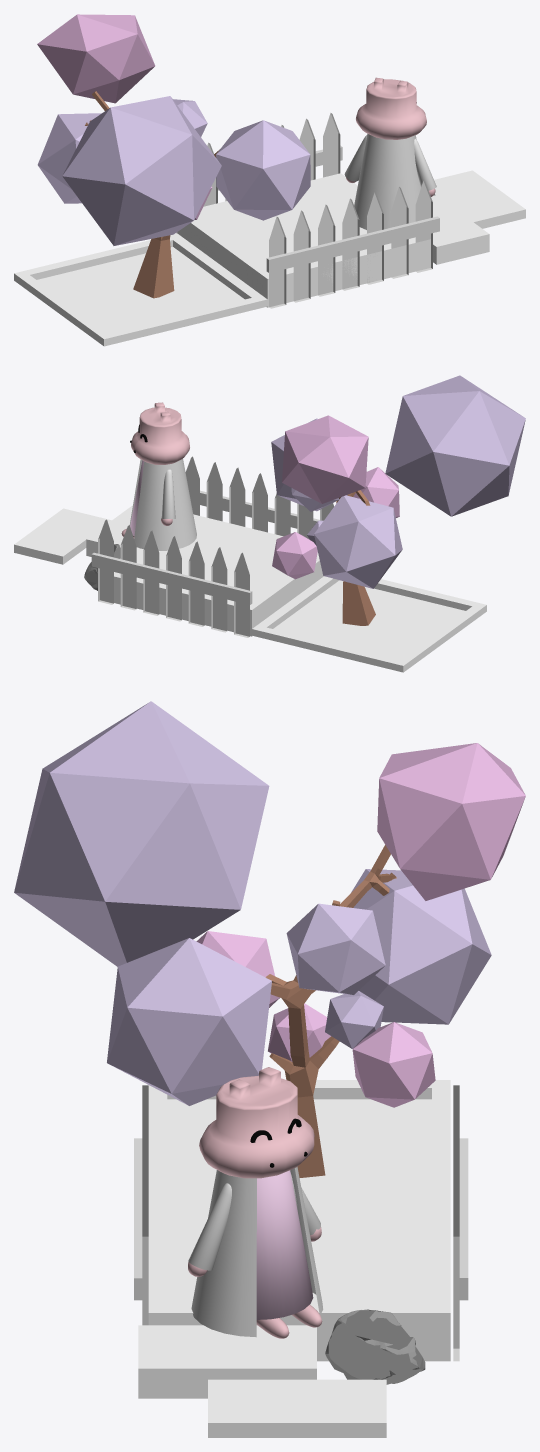
The model's file is hippo_sitting.glb.
3 views of the same model, one above another, from view 1: azimuth 30°, elevation 25°; view 2: azimuth 150°, elevation 25°; view 3: azimuth 270°, elevation 25° (orthographic). The views are drawn at different scales.
Parts seen in each view (by area): view 1: Icosphere.005, Cube.003, Cube, leaves.002, leaves, fence.001, coat, head, Cube.002, fence_lane.001, leaves.001, Cube.001 (+6 smaller); view 2: Icosphere.005, Cube.003, Cube, fence, leaves.001, leaves.002, fence.001, coat, Cube.002, head, fence_lane, Icosphere.001 (+8 smaller); view 3: Icosphere.005, Cube, leaves, leaves.002, Cube.003, leaves.001, Cube.002, Cube.001, head, coat, Icosphere.004, dress (+11 smaller).
Boxes of the visible parts, x1,y1,x2,y2 form: Icosphere.005: [62, 96, 221, 245]; Cube.003: [14, 233, 267, 346]; Cube: [177, 173, 430, 307]; leaves.002: [37, 14, 155, 103]; leaves: [216, 120, 310, 220]; fence.001: [269, 180, 432, 308]; coat: [354, 133, 420, 229]; head: [356, 77, 426, 139]; Cube.002: [433, 170, 525, 228]; fence_lane.001: [266, 216, 439, 272]; leaves.001: [37, 113, 101, 203]; Cube.001: [431, 195, 489, 264]; Icosphere.005: [385, 375, 525, 516]; Cube.003: [252, 576, 486, 672]; Cube: [114, 514, 323, 636]; fence: [98, 519, 249, 637]; leaves.001: [314, 495, 402, 588]; leaves.002: [282, 415, 368, 503]; fence.001: [185, 456, 333, 539]; coat: [129, 459, 196, 550]; Cube.002: [14, 508, 111, 564]; head: [131, 402, 189, 464]; fence_lane: [91, 552, 252, 604]; Icosphere.001: [272, 532, 317, 579]; Icosphere.005: [14, 701, 269, 966]; Cube: [148, 1179, 450, 1361]; leaves: [107, 938, 271, 1105]; leaves.002: [377, 743, 525, 900]; Cube.003: [148, 1080, 450, 1179]; leaves.001: [351, 869, 491, 1024]; Cube.002: [208, 1379, 386, 1437]; Cube.001: [138, 1325, 316, 1398]; head: [199, 1067, 314, 1178]; coat: [191, 1166, 323, 1337]; Icosphere.004: [286, 903, 385, 994]; dress: [256, 1170, 313, 1319].
Bounding box in the file's own units: 13.98 × 7.19 × 7.83.
